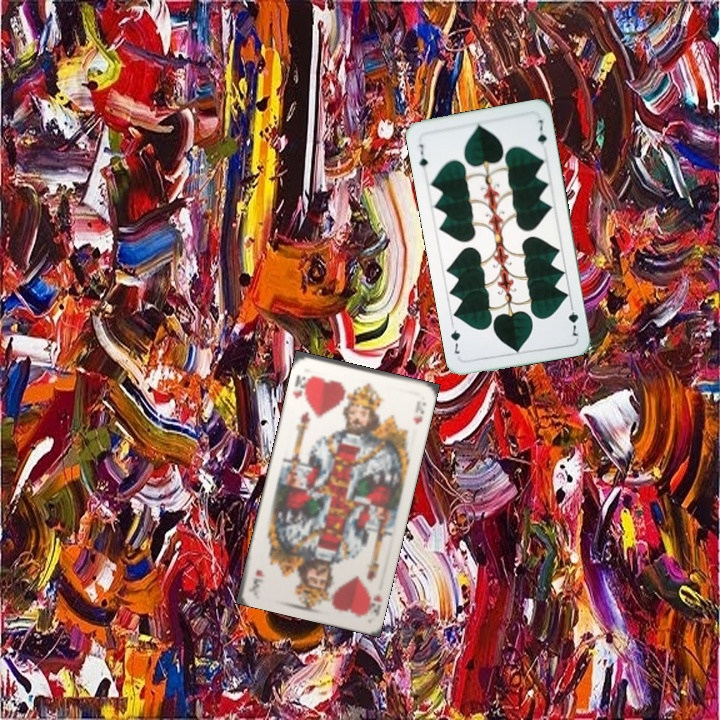G7: (564, 299, 581, 339), (415, 140, 430, 170)
HK: (289, 370, 313, 404), (364, 586, 384, 619)
